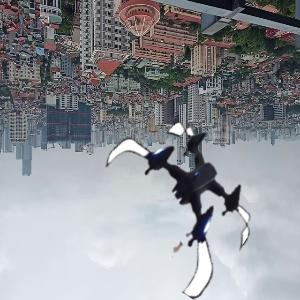drone: (98, 109, 268, 279)
